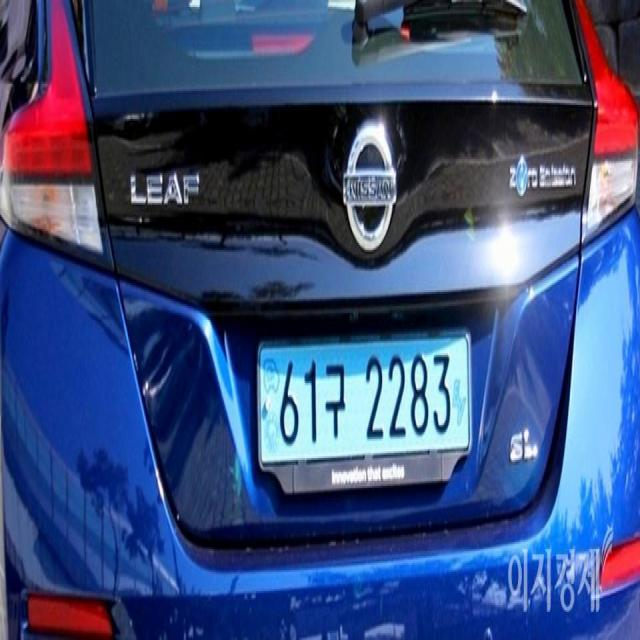EV_plate: (255, 326, 476, 500)
